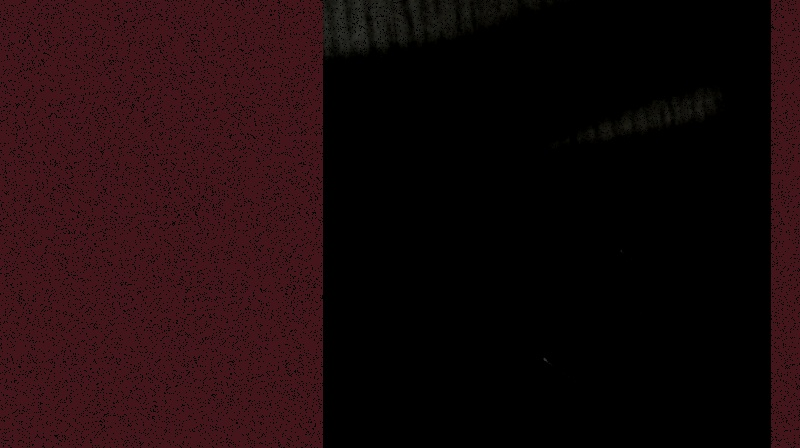O002: (537, 212, 718, 417)
